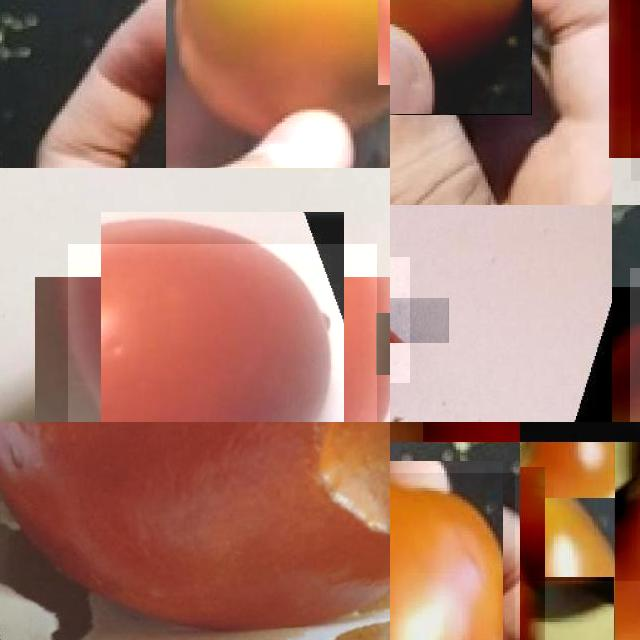0: (520, 442, 640, 581)
1: (0, 422, 390, 640), (390, 472, 514, 640)
Fresh Tomato: (68, 244, 377, 422)
Rotten Tomato: (166, 0, 390, 168), (390, 0, 531, 114), (390, 257, 410, 383)
